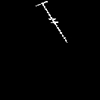treble_crochet: (39, 1, 65, 40)
